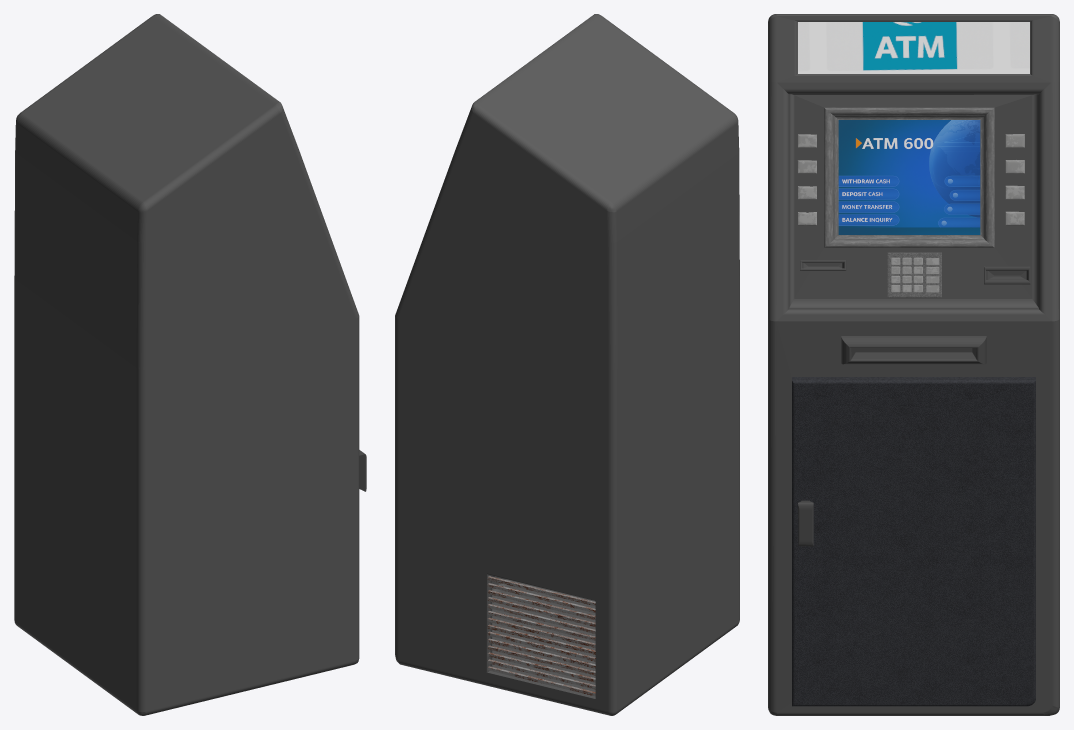
The model's file is atm.glb.
The picture shows the model from 3 angles, left to right: view 1: azimuth 30°, elevation 25°; view 2: azimuth 150°, elevation 25°; view 3: azimuth 270°, elevation 25°; orthographic projection. The views are drawn at different scales.
Parts seen in each view (by area): view 1: Cube; view 2: Cube, Cube.010; view 3: Cube.008, Cube, Cube.001, Cube.011, Cube.013, Cube.012, Cube.006, Cube.004.
Part boxes in pixels (box(x1,y1,x2,y2)): Cube: box(14, 14, 359, 715); Cube: box(395, 14, 739, 715); Cube.010: box(487, 576, 595, 696); Cube.008: box(792, 377, 1035, 706); Cube: box(768, 14, 1059, 715); Cube.001: box(794, 95, 1032, 546); Cube.011: box(838, 120, 980, 234); Cube.013: box(798, 22, 1029, 73); Cube.012: box(824, 107, 994, 247); Cube.006: box(797, 134, 1024, 292); Cube.004: box(887, 252, 941, 297).
Bounding box in the file's own units: 2.16 × 4.99 × 2.
9 materials, 9 textured.
